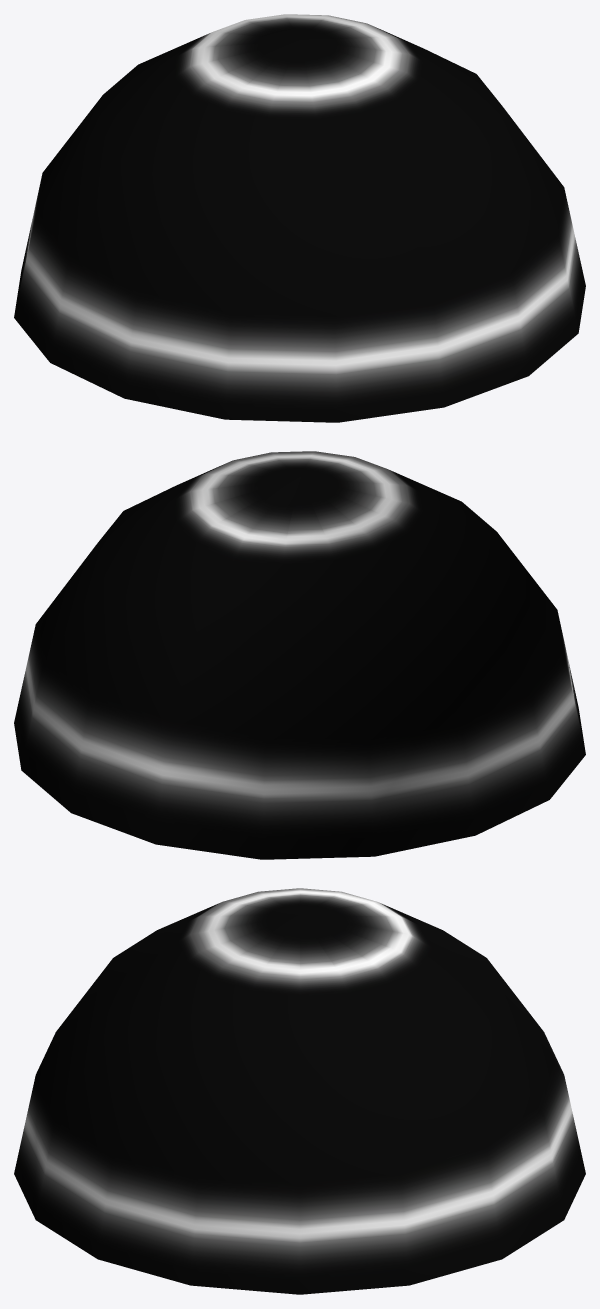
Rendered from sphpere.FBX.
3 renders of one model, top to bottom at view 1: azimuth 30°, elevation 25°; view 2: azimuth 150°, elevation 25°; view 3: azimuth 270°, elevation 25°, orthographic.
Visible parts, largest first — view 1: Sphere002; view 2: Sphere002; view 3: Sphere002.
Boxes of the visible parts, x1=… form: Sphere002: x1=14, y1=14, x2=585, y2=422; Sphere002: x1=14, y1=451, x2=585, y2=859; Sphere002: x1=14, y1=888, x2=585, y2=1294.
Bounding box in the file's own units: 50 × 25 × 50.
